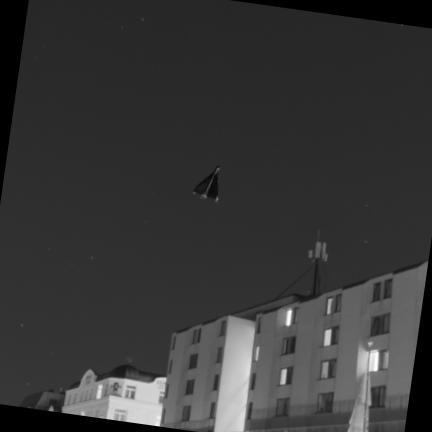Shahed: (194, 166, 218, 201)
